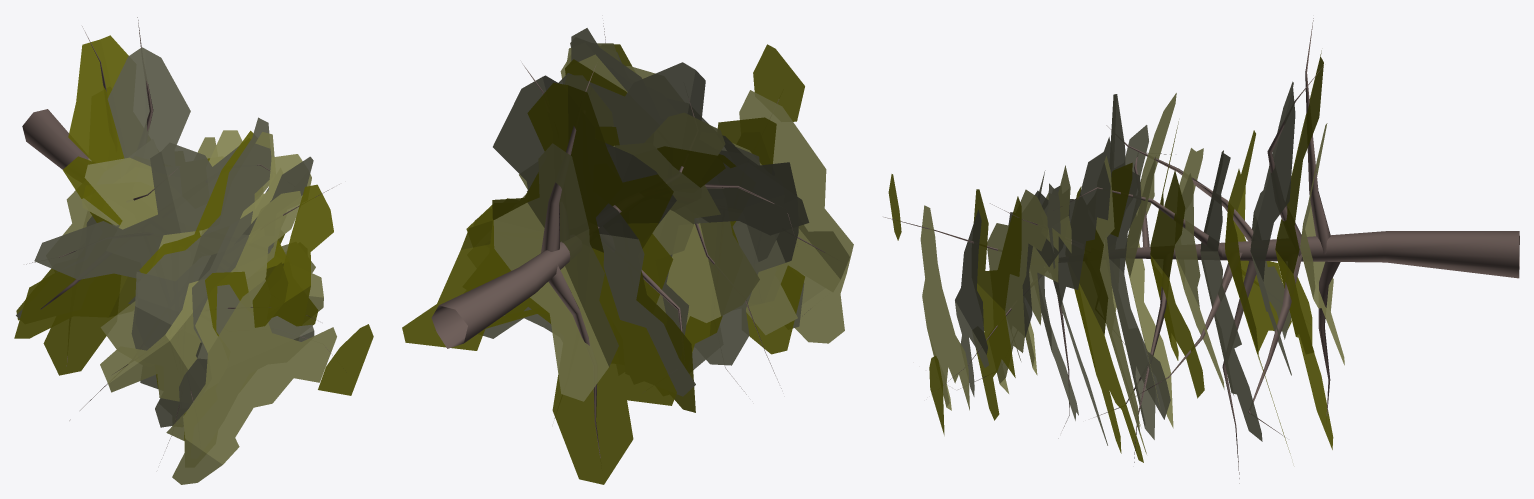
Rendered from Tree4.obj.
The picture shows the model from 3 angles, left to right: view 1: azimuth 30°, elevation 25°; view 2: azimuth 150°, elevation 25°; view 3: azimuth 270°, elevation 25°; orthographic projection. The views are drawn at different scales.
Visible parts, largest first — view 1: group_1.001_ID14.005; view 2: group_1.001_ID14.005; view 3: group_1.001_ID14.005.
Part boxes in pixels (left/top/right/bottom): group_1.001_ID14.005: left=14, top=17, right=373, bottom=484; group_1.001_ID14.005: left=402, top=23, right=853, bottom=484; group_1.001_ID14.005: left=884, top=18, right=1519, bottom=483.
Bounding box in the file's own units: 6.12 × 7.32 × 9.47.
